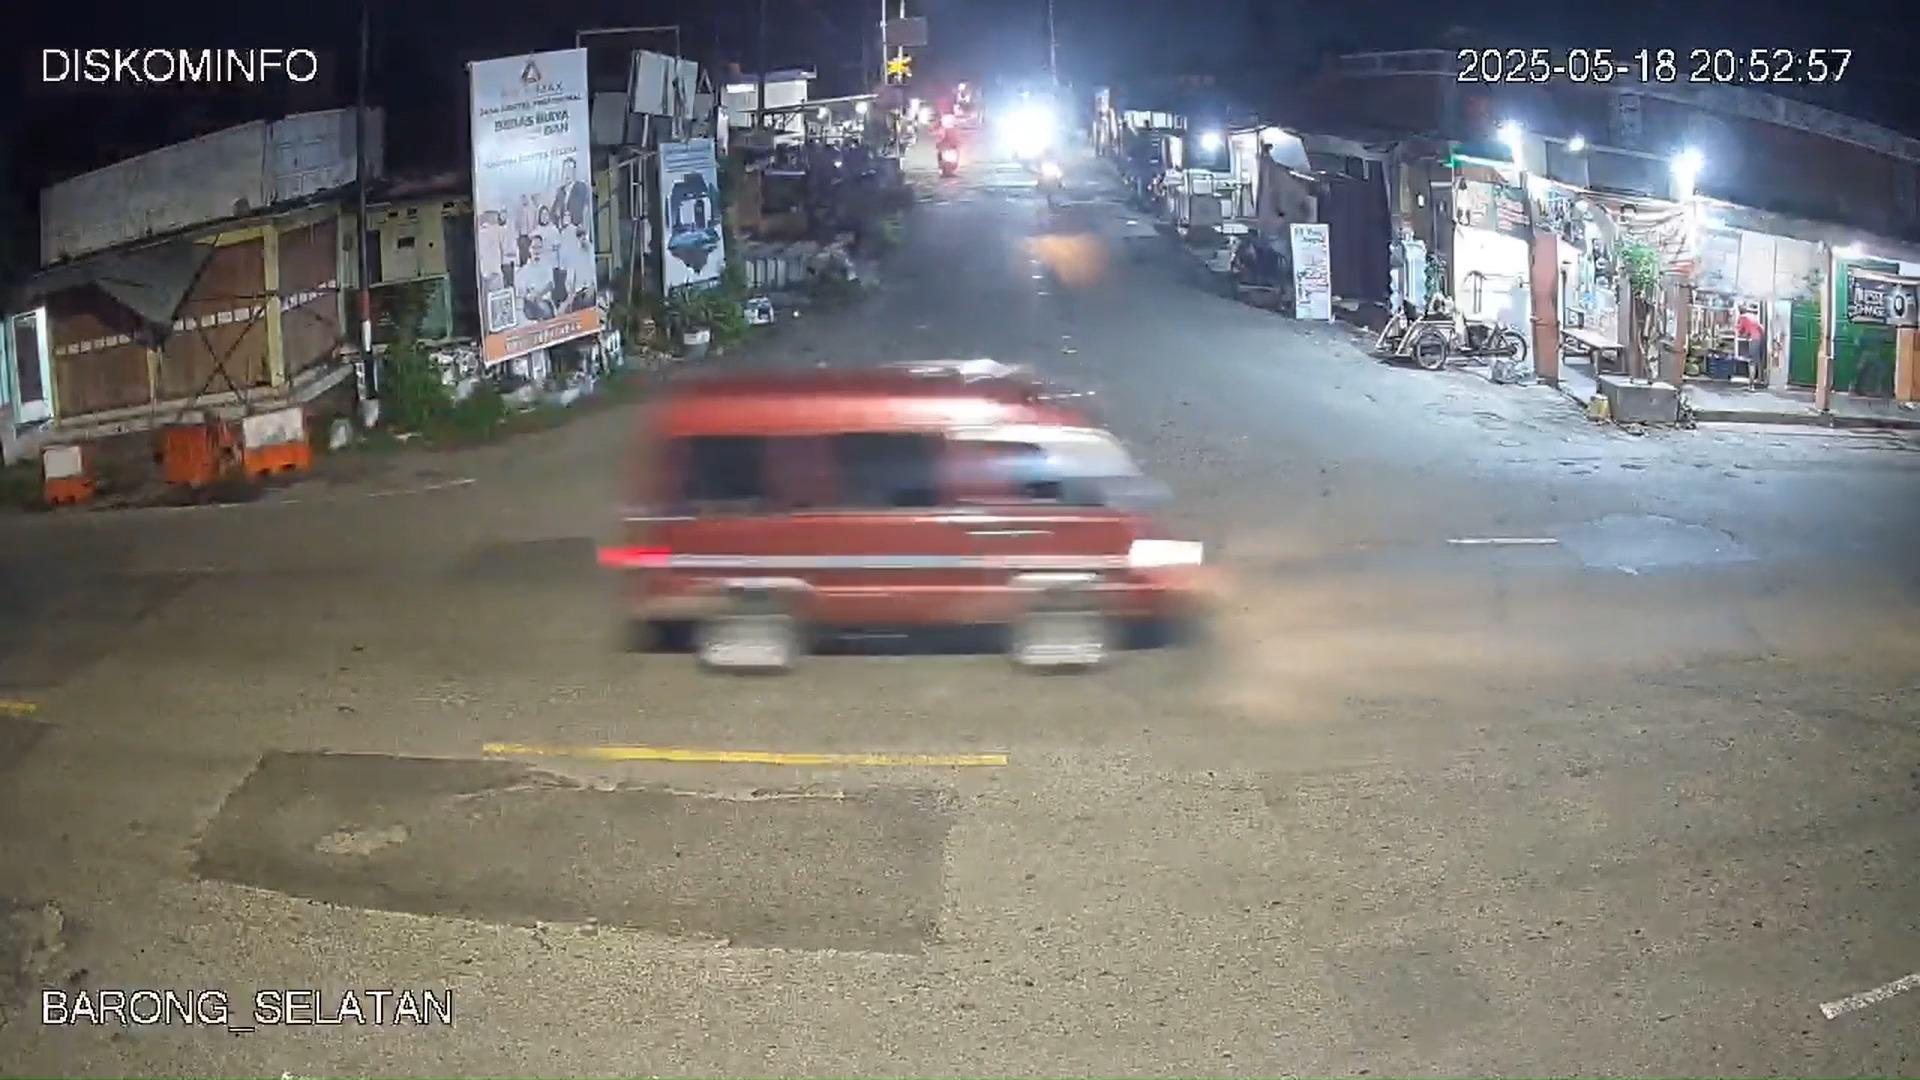mobil: (616, 376, 1215, 683)
